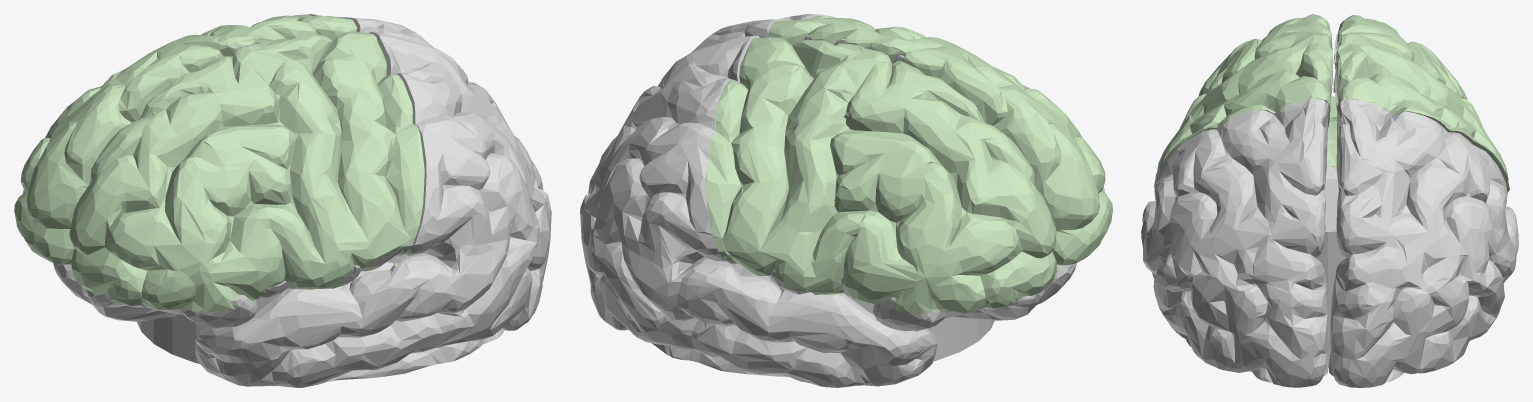
File: tinker.obj
3 renders of one model, left to right at view 1: azimuth 30°, elevation 25°; view 2: azimuth 150°, elevation 25°; view 3: azimuth 270°, elevation 25°, orthographic. The views are drawn at different scales.
Visible parts, largest first — view 1: group_0_13165757, group_0_16448250; view 2: group_0_13165757, group_0_16448250; view 3: group_0_16448250, group_0_13165757.
Boxes of the visible parts, left/top/right/bottom form: group_0_13165757: left=14, top=14, right=424, bottom=312; group_0_16448250: left=53, top=14, right=551, bottom=387; group_0_13165757: left=705, top=16, right=1112, bottom=313; group_0_16448250: left=580, top=14, right=1076, bottom=387; group_0_16448250: left=1141, top=32, right=1518, bottom=387; group_0_13165757: left=1155, top=14, right=1509, bottom=192.
Size of the model in its own units: 52.58 by 29.83 by 42.6.
